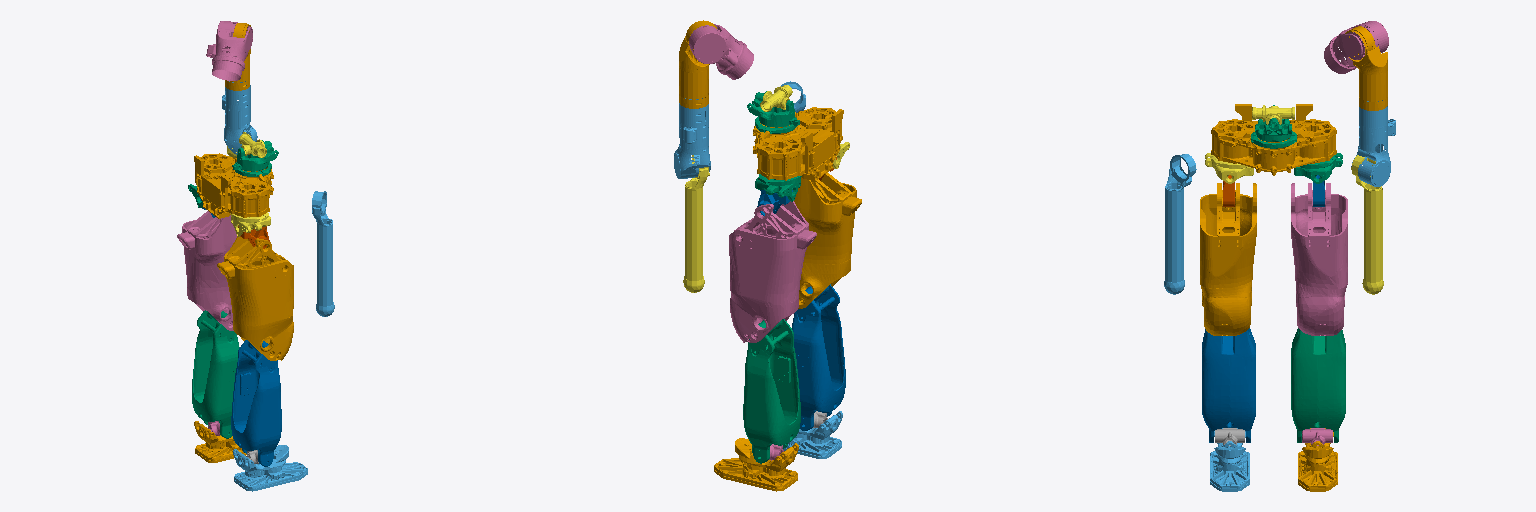
--- Facts derived from the render (not from the file) ---
Views: 3 orthographic renders of the robot side by side, from view 1: azimuth 30°, elevation 25°; view 2: azimuth 150°, elevation 25°; view 3: azimuth 270°, elevation 25°.
Model nadia with 34 links and 33 joints (23 revolute, 10 fixed), rooted at PELVIS_LINK, posed all joints at 0.
Links seen in each view (by area): view 1: RIGHT_THIGH_LINK, RIGHT_SHIN_LINK, LEFT_THIGH_LINK, LEFT_SHIN_LINK, PELVIS_LINK, RIGHT_ELBOW_PITCH_LINK, RIGHT_FOOT_LINK, LEFT_SHOULDER_PITCH_LINK, LEFT_SHOULDER_YAW_LINK, LEFT_FOOT_LINK, SPINE_YAW_LINK, LEFT_SHOULDER_ROLL_LINK (+1 smaller); view 2: LEFT_THIGH_LINK, LEFT_SHIN_LINK, RIGHT_THIGH_LINK, RIGHT_SHIN_LINK, PELVIS_LINK, LEFT_FOOT_LINK, LEFT_SHOULDER_PITCH_LINK, LEFT_ELBOW_PITCH_LINK, LEFT_SHOULDER_YAW_LINK, LEFT_SHOULDER_ROLL_LINK, RIGHT_FOOT_LINK, SPINE_YAW_LINK (+2 smaller); view 3: RIGHT_THIGH_LINK, LEFT_THIGH_LINK, LEFT_SHIN_LINK, RIGHT_SHIN_LINK, PELVIS_LINK, RIGHT_ELBOW_PITCH_LINK, LEFT_SHOULDER_YAW_LINK, LEFT_ELBOW_PITCH_LINK, LEFT_SHOULDER_ROLL_LINK, RIGHT_FOOT_LINK, LEFT_FOOT_LINK, LEFT_SHOULDER_PITCH_LINK (+4 smaller).
Boxes of the visible links, <box> form: RIGHT_THIGH_LINK: <box>217,236,293,360</box>; RIGHT_SHIN_LINK: <box>231,340,281,466</box>; LEFT_THIGH_LINK: <box>177,211,236,330</box>; LEFT_SHIN_LINK: <box>192,310,239,438</box>; PELVIS_LINK: <box>194,153,273,218</box>; RIGHT_ELBOW_PITCH_LINK: <box>312,191,334,316</box>; RIGHT_FOOT_LINK: <box>233,445,307,491</box>; LEFT_SHOULDER_PITCH_LINK: <box>206,21,252,80</box>; LEFT_SHOULDER_YAW_LINK: <box>222,81,257,154</box>; LEFT_FOOT_LINK: <box>194,421,246,462</box>; SPINE_YAW_LINK: <box>232,140,278,176</box>; LEFT_SHOULDER_ROLL_LINK: <box>225,23,250,90</box>; LEFT_THIGH_LINK: <box>729,201,816,342</box>; LEFT_SHIN_LINK: <box>743,319,800,463</box>; RIGHT_THIGH_LINK: <box>794,172,861,308</box>; RIGHT_SHIN_LINK: <box>792,284,845,430</box>; PELVIS_LINK: <box>753,107,843,180</box>; LEFT_FOOT_LINK: <box>714,438,798,491</box>; LEFT_SHOULDER_PITCH_LINK: <box>689,24,753,79</box>; LEFT_ELBOW_PITCH_LINK: <box>683,155,709,292</box>; LEFT_SHOULDER_YAW_LINK: <box>674,98,710,178</box>; LEFT_SHOULDER_ROLL_LINK: <box>679,20,716,108</box>; RIGHT_FOOT_LINK: <box>783,411,842,458</box>; SPINE_YAW_LINK: <box>747,91,799,133</box>; RIGHT_THIGH_LINK: <box>1200,183,1256,335</box>; LEFT_THIGH_LINK: <box>1291,183,1347,335</box>; LEFT_SHIN_LINK: <box>1291,328,1345,442</box>; RIGHT_SHIN_LINK: <box>1202,328,1255,442</box>; PELVIS_LINK: <box>1211,104,1336,175</box>; RIGHT_ELBOW_PITCH_LINK: <box>1164,154,1196,294</box>; LEFT_SHOULDER_YAW_LINK: <box>1351,100,1395,186</box>; LEFT_ELBOW_PITCH_LINK: <box>1351,155,1383,294</box>; LEFT_SHOULDER_ROLL_LINK: <box>1345,26,1387,110</box>; RIGHT_FOOT_LINK: <box>1210,428,1249,491</box>; LEFT_FOOT_LINK: <box>1298,428,1337,491</box>; LEFT_SHOULDER_PITCH_LINK: <box>1324,21,1388,73</box>.
Bounding box of the posed robot: 0.3882 × 0.6883 × 1.5 m (x, y, z).
20 mesh visuals loaded from 22 distinct referenced files (18 OBJ); not drawn: 4 (reference not matched to a file when rendering).

The robot description file, URDF, robot "nadia":
<?xml version = "1.0" ?>
<robot name="nadia" xmlns:xacro="http://www.ros.org/wiki/xacro">

<!-- revolute joints -->
<joint name="LEFT_HIP_Z" type="revolute">
    <origin rpy="0 0 0" xyz="0 0.115 -0.07185" />
    <axis xyz="0 0 -1" />
    <parent link="PELVIS_LINK" />
    <child link="LEFT_HIP_YAW_LINK" />
    <limit effort="1000" lower="-0.7854" upper="0.7854" velocity = "100" />
    <dynamics damping="0.05" friction="0.0"/>
</joint>

<joint name="RIGHT_HIP_Z" type="revolute">
    <origin rpy="0 0 0" xyz="0 -0.115 -0.07185" />
    <axis xyz="0 0 -1" />
    <parent link="PELVIS_LINK" />
    <child link="RIGHT_HIP_YAW_LINK" />
    <limit effort="1000" lower="-0.7854" upper="0.7854" velocity = "100" />
    <dynamics damping="0.05" friction="0.0"/>
</joint>

<joint name="LEFT_HIP_X" type="revolute">
    <origin rpy="0 0 0" xyz="0.035 0.015 -0.04975" />
    <axis xyz="1 0 0" />
    <parent link="LEFT_HIP_YAW_LINK" />
    <child link="LEFT_HIP_ROLL_LINK" />
    <limit effort="1000" lower="-0.5236" upper="1.0472" velocity = "100" />
    <dynamics damping="0.05" friction="0.0"/>
</joint>

<joint name="RIGHT_HIP_X" type="revolute">
    <origin rpy="0 0 0" xyz="0.035 -0.015 -0.04975" />
    <axis xyz="1 0 0" />
    <parent link="RIGHT_HIP_YAW_LINK" />
    <child link="RIGHT_HIP_ROLL_LINK" />
    <limit effort="1000" lower="-1.0472" upper="0.5236" velocity = "100" />
    <dynamics damping="0.05" friction="0.0"/>
</joint>

<joint name="LEFT_HIP_Y" type="revolute">
    <origin rpy="0 0 0" xyz="0 0 -0.079068" />
    <axis xyz="0 1 0" />
    <parent link="LEFT_HIP_ROLL_LINK" />
    <child link="LEFT_THIGH_LINK" />
    <limit effort="1000" lower="-1.57" upper="0.314" velocity = "100" />
    <dynamics damping="0.05" friction="0.0"/>
</joint>

<joint name='LEFT_KNEE_Y' type='revolute'>
    <origin rpy="0 0 0" xyz="0 0 -0.38" />
    <axis xyz="0 1 0" />
    <parent link="LEFT_THIGH_LINK" />
    <child link="LEFT_SHIN_LINK" />
    <limit effort="350" lower="0" upper="2.62" velocity = "100" />
    <dynamics damping="0.05" friction="0.0"/>
</joint>

<joint name="RIGHT_HIP_Y" type="revolute">
    <origin rpy="0 0 0" xyz="0 0 -0.079068" />
    <axis xyz="0 1 0" />
    <parent link="RIGHT_HIP_ROLL_LINK" />
    <child link="RIGHT_THIGH_LINK" />
    <limit effort="1000" lower="-1.57" upper="0.314" velocity = "100" />
    <dynamics damping="0.05" friction="0.0"/>
</joint>

<joint name='RIGHT_KNEE_Y' type='revolute'>
    <origin rpy="0 0 0" xyz="0 0 -0.38" />
    <axis xyz="0 1 0" />
    <parent link="RIGHT_THIGH_LINK" />
    <child link="RIGHT_SHIN_LINK" />
    <limit effort="350" lower="0" upper="2.62" velocity = "100" />
    <dynamics damping="0.05" friction="0.0"/>
</joint>

<joint name="LEFT_ANKLE_Y" type="revolute">
    <origin rpy="0 0 0" xyz="-0.00830222 0 -0.40213938" />
    <axis xyz="0 1 0" />
    <parent link="LEFT_SHIN_LINK" />
    <child link="LEFT_ANKLE_LINK" />
    <limit effort="1000" lower="-1.0472" upper="0.698132" velocity = "100" />
    <dynamics damping="0.05" friction="0.0"/>
</joint>

<joint name="RIGHT_ANKLE_Y" type="revolute">
    <origin rpy="0 0 0" xyz="-0.00830222 0 -0.40213938" />
    <axis xyz="0 1 0" />
    <parent link="RIGHT_SHIN_LINK" />
    <child link="RIGHT_ANKLE_LINK" />
    <limit effort="1000" lower="-1.0472" upper="0.698132" velocity = "100" />
    <dynamics damping="0.05" friction="0.0"/>
</joint>

<joint name="LEFT_ANKLE_X" type="revolute">
    <origin rpy="0 0 0" xyz="0 0 -0.01" />
    <axis xyz="1 0 0" />
    <parent link="LEFT_ANKLE_LINK" />
    <child link="LEFT_FOOT_LINK" />
    <limit effort="1000" lower="-0.436332" upper="0.436332" velocity = "100" />
    <dynamics damping="0.05" friction="0.0"/>
</joint>

<joint name="RIGHT_ANKLE_X" type="revolute">
    <origin rpy="0 0 0" xyz="0 0 -0.01" />
    <axis xyz="1 0 0" />
    <parent link="RIGHT_ANKLE_LINK" />
    <child link="RIGHT_FOOT_LINK" />
    <limit effort="1000" lower="-0.436332" upper="0.436332" velocity = "100" />
    <dynamics damping="0.05" friction="0.0"/>
</joint>

<joint name="SPINE_Z" type="revolute">
    <origin rpy="0 0 0" xyz="0.08 0 0.00635" />
    <axis xyz="0 0 1" />
    <parent link="PELVIS_LINK" />
    <child link="SPINE_YAW_LINK" />
    <limit effort="1000" lower="-1.0472" upper="1.0472" velocity = "100" />
    <dynamics damping="0.05" friction="0.0"/>
</joint>

<joint name="SPINE_X" type="revolute">
    <origin rpy="0 0 0" xyz="0 0 0.08205" />
    <axis xyz="1 0 0" />
    <parent link="SPINE_YAW_LINK" />
    <child link="SPINE_ROLL_LINK" />
    <limit effort="1000" lower="-0.523599" upper="0.523599" velocity = "100" />
    <dynamics damping="0.05" friction="0.0"/>
</joint>

<joint name="SPINE_Y" type="revolute">
    <origin rpy="0 0 0" xyz="0 0 0.01" />
    <axis xyz="0 1 0" />
    <parent link="SPINE_ROLL_LINK" />
    <child link="TORSO_LINK" />
    <limit effort="1000" lower="-1.0472" upper="1.0472" velocity = "100" />
    <dynamics damping="0.05" friction="0.0"/>
</joint>


<!-- links -->
<link name="PELVIS_LINK">
  <inertial>
    <mass value="19.0917"/>
    <origin rpy="0 0 0" xyz="0.02073086 2.023E-05 -0.0309812"/>
    <inertia ixx="0.0942" ixy="6.05E-06" ixz="0.000379" iyy="0.0416" iyz="3.37E-07" izz="0.112" />
  </inertial>
  <visual>
    <geometry>
      <mesh filename="package://nadia_V16_description/meshes/pelvis.obj"/>
    </geometry>
    <origin rpy="0.0 0.0 0.0" xyz="0.0 0.0 0.0"/>
  </visual>
</link>

<!-- pelvis_stim_imu -->
  <joint name="PELVIS_STIM_IMU_JOINT" type="fixed">
    <parent link="PELVIS_LINK"/>
    <child link="PELVIS_STIM_IMU_LINK"/>
    <origin xyz="-0.03133646 0.02237500 -0.07000000" rpy="0.0 3.141592 0.0"/>
  </joint>

  <link name="PELVIS_STIM_IMU_LINK">
    <inertial>
      <mass value="0.0" />
      <origin xyz="0 0 0" rpy="0 0 0" />
      <inertia ixx="0.0" ixy="0.0" ixz="0.0" iyy="0.0" iyz="0.0" izz="0.0" />
    </inertial>
  </link>

  <gazebo reference="PELVIS_STIM_IMU_LINK">
    <sensor name="pelvis_stim_imu" type="imu">
      <always_on>1</always_on>
      <update_rate>1000.0</update_rate>
      <imu>
        <noise>
          <type>gaussian</type>
          <rate>
            <mean>0.0</mean>
            <stddev>2e-4</stddev>
            <bias_mean>0.0000075</bias_mean>
            <bias_stddev>0.0000008</bias_stddev>
          </rate>
          <accel>
            <mean>0.0</mean>
            <stddev>1.7e-2</stddev>
            <bias_mean>0.1</bias_mean>
            <bias_stddev>0.001</bias_stddev>
          </accel>
        </noise>
      </imu>
    </sensor>
  </gazebo>
 <!-- end pelvis stim imu -->

<link name="LEFT_HIP_YAW_LINK">
  <inertial>
    <mass value="1.814"/>
    <origin rpy="0 0 0" xyz="-0.00629727 0.00606893 -0.03971844"/>
    <inertia ixx="0.004741914" ixy="0.000527" ixz="-0.000307" iyy="0.00414" iyz="1.36E-05" izz="0.00569" />
  </inertial>
  <visual>
    <geometry>
      <mesh filename="package://nadia_V16_description/meshes/left_hip_yaw.obj"/>
    </geometry>
    <origin rpy="0.0 0.0 0.0" xyz="0.0 0.0 0.0"/>
  </visual>
</link>

<link name="RIGHT_HIP_YAW_LINK">
  <inertial>
    <mass value="1.814"/>
    <origin rpy="0 0 0" xyz="-0.00629727 -0.00606893 -0.03971844"/>
    <inertia ixx="0.004741914" ixy="-0.000527" ixz="-0.000307" iyy="0.00414" iyz="-1.36E-05" izz="0.00569" />
  </inertial>
  <visual>
    <geometry>
      <mesh filename="package://nadia_V16_description/meshes/right_hip_yaw.obj"/>
    </geometry>
    <origin rpy="0.0 0.0 0.0" xyz="0.0 0.0 0.0"/>
  </visual>
</link>

<link name="LEFT_HIP_ROLL_LINK">
  <inertial>
    <mass value="0.762"/>
    <origin rpy="0 0 0" xyz="-0.01327037 0.00316985 -0.05399997"/>
    <inertia ixx="0.001028994" ixy="-9.31E-06" ixz="0.000352" iyy="0.00138" iyz="3.22E-05" izz="0.000663" />
  </inertial>
  <visual>
    <geometry>
      <mesh filename="package://nadia_V16_description/meshes/left_hip_roll.obj"/>
    </geometry>
    <origin rpy="0.0 0.0 0.0" xyz="0.0 0.0 0.0"/>
  </visual>
</link>

<link name="RIGHT_HIP_ROLL_LINK">
  <inertial>
    <mass value="0.762"/>
    <origin rpy="0 0 0" xyz="-0.01327037 -0.00316985 -0.05399997"/>
    <inertia ixx="0.001028994" ixy="9.31E-06" ixz="0.000352" iyy="0.00138" iyz="-3.22E-05" izz="0.000663" />
  </inertial>
  <visual>
    <geometry>
      <mesh filename="package://nadia_V16_description/meshes/right_hip_roll.obj"/>
    </geometry>
    <origin rpy="0.0 0.0 0.0" xyz="0.0 0.0 0.0"/>
  </visual>
</link>

<link name="LEFT_THIGH_LINK">
  <inertial>
    <mass value="10.953"/>
    <origin rpy="0 0 0" xyz="-0.00093749 0.01134511 -0.17863144"/>
    <inertia ixx="0.1622268263" ixy="-0.000749" ixz="0.0156" iyy="0.174" iyz="0.00213" izz="0.0528" />
  </inertial>
  <visual>
    <geometry>
      <mesh filename="package://nadia_V16_description/meshes/left_thigh.obj"/>
    </geometry>
    <origin rpy="0.0 0.0 0.0" xyz="0.0 0.0 0.0"/>
  </visual>
</link>

<!-- left thigh imu -->
  <joint name="LEFT_THIGH_IMU_JOINT" type="fixed">
    <parent link="LEFT_THIGH_LINK"/>
    <child link="LEFT_THIGH_IMU_LINK"/>
    <origin xyz="0.05793744 0.01666131 -0.09511697" rpy="2.025  0.000 -1.571"/>  
  </joint>

  <link name="LEFT_THIGH_IMU_LINK">
    <inertial>
      <mass value="0.0" />
      <origin xyz="0 0 0" rpy="0 0 0" />
      <inertia ixx="0.0" ixy="0.0" ixz="0.0" iyy="0.0" iyz="0.0" izz="0.0" />
    </inertial>
  </link>

  <gazebo reference="LEFT_THIGH_IMU_LINK">
    <sensor name="left_thigh_imu" type="imu">
      <always_on>1</always_on>
      <update_rate>1000.0</update_rate>
      <imu>
        <noise>
          <type>gaussian</type>
          <rate>
            <mean>0.0</mean>
            <stddev>2e-4</stddev>
            <bias_mean>0.0000075</bias_mean>
            <bias_stddev>0.0000008</bias_stddev>
          </rate>
          <accel>
            <mean>0.0</mean>
            <stddev>1.7e-2</stddev>
            <bias_mean>0.1</bias_mean>
            <bias_stddev>0.001</bias_stddev>
          </accel>
        </noise>
      </imu>
    </sensor>
  </gazebo>
<!-- end left thigh imu -->

<link name="RIGHT_THIGH_LINK">
  <inertial>
    <mass value="10.953"/>
    <origin rpy="0 0 0" xyz="-0.00093749 -0.01134511 -0.17863144"/>
    <inertia ixx="0.1622268263" ixy="0.000749" ixz="0.0156" iyy="0.174" iyz="-0.00213" izz="0.0528" />
  </inertial>
  <visual>
    <geometry>
      <mesh filename="package://nadia_V16_description/meshes/right_thigh.obj"/>
    </geometry>
    <origin rpy="0.0 0.0 0.0" xyz="0.0 0.0 0.0"/>
  </visual>
</link>

<!-- right thigh imu -->
  <joint name="RIGHT_THIGH_IMU_JOINT" type="fixed">
    <parent link="RIGHT_THIGH_LINK"/>
    <child link="RIGHT_THIGH_IMU_LINK"/>
    <origin xyz="0.05793670 0.01066129 -0.09511742" rpy="2.025  0.000 -1.571"/>  
  </joint>

  <link name="RIGHT_THIGH_IMU_LINK">
    <inertial>
      <mass value="0.0" />
      <origin xyz="0 0 0" rpy="0 0 0" />
      <inertia ixx="0.0" ixy="0.0" ixz="0.0" iyy="0.0" iyz="0.0" izz="0.0" />
    </inertial>
  </link>

  <gazebo reference="RIGHT_THIGH_IMU_LINK">
    <sensor name="right_thigh_imu" type="imu">
      <always_on>1</always_on>
      <update_rate>1000.0</update_rate>
      <imu>
        <noise>
          <type>gaussian</type>
          <rate>
            <mean>0.0</mean>
            <stddev>2e-4</stddev>
            <bias_mean>0.0000075</bias_mean>
            <bias_stddev>0.0000008</bias_stddev>
          </rate>
          <accel>
            <mean>0.0</mean>
            <stddev>1.7e-2</stddev>
            <bias_mean>0.1</bias_mean>
            <bias_stddev>0.001</bias_stddev>
          </accel>
        </noise>
      </imu>
    </sensor>
  </gazebo>
<!-- end right thigh imu -->

<link name="LEFT_SHIN_LINK">
  <inertial>
    <mass value="5.42"/>
    <origin rpy="0 0 0" xyz="-0.01841492 0.00228086 -0.22054239"/>
    <inertia ixx="0.064437783" ixy="-0.000214" ixz="-0.00538" iyy="0.0583" iyz="-0.000962" izz="0.0136" />
  </inertial>
  <visual>
    <geometry>
      <mesh filename="package://nadia_V16_description/meshes/left_shin.obj"/>
    </geometry>
    <origin rpy="0.0 0.0 0.0" xyz="0.0 0.0 0.0"/>
  </visual>
</link>


<!-- left shin imu -->
  <joint name="LEFT_SHIN_IMU_JOINT" type="fixed">
    <parent link="LEFT_SHIN_LINK"/>
    <child link="LEFT_SHIN_IMU_LINK"/>
    <origin xyz="-0.03216129 -0.07159184 -0.1864738" rpy="-1.570796 0.0 0.0"/>  
  </joint>

  <link name="LEFT_SHIN_IMU_LINK">
    <inertial>
      <mass value="0.0" />
      <origin xyz="0 0 0" rpy="0 0 0" />
      <inertia ixx="0.0" ixy="0.0" ixz="0.0" iyy="0.0" iyz="0.0" izz="0.0" />
    </inertial>
  </link>

  <gazebo reference="LEFT_SHIN_IMU_LINK">
    <sensor name="left_shin_imu" type="imu">
      <always_on>1</always_on>
      <update_rate>1000.0</update_rate>
      <imu>
        <noise>
          <type>gaussian</type>
          <rate>
            <mean>0.0</mean>
            <stddev>2e-4</stddev>
            <bias_mean>0.0000075</bias_mean>
            <bias_stddev>0.0000008</bias_stddev>
          </rate>
          <accel>
            <mean>0.0</mean>
            <stddev>1.7e-2</stddev>
            <bias_mean>0.1</bias_mean>
            <bias_stddev>0.001</bias_stddev>
          </accel>
        </noise>
      </imu>
    </sensor>
  </gazebo>
<!-- end left shin imu -->

<link name="RIGHT_SHIN_LINK">
  <inertial>
    <mass value="5.42"/>
    <origin rpy="0 0 0" xyz="-0.01837047 -0.00241134 -0.21991278"/>
    <inertia ixx="0.064443143" ixy="0.000202" ixz="-0.00539" iyy="0.0583" iyz="0.000906" izz="0.0136" />
  </inertial>
  <visual>
    <geometry>
      <mesh filename="package://nadia_V16_description/meshes/right_shin.obj"/>
    </geometry>
    <origin rpy="0.0 0.0 0.0" xyz="0.0 0.0 0.0"/>
  </visual>
</link>

<!-- right shin imu -->
  <joint name="RIGHT_SHIN_IMU_JOINT" type="fixed">
    <parent link="RIGHT_SHIN_LINK"/>
    <child link="RIGHT_SHIN_IMU_LINK"/>
    <origin xyz="-0.002838710 0.07159142 -0.1864738" rpy="-1.570796 0.0 3.141592"/>  
  </joint>

  <link name="RIGHT_SHIN_IMU_LINK">
    <inertial>
      <mass value="0.0" />
      <origin xyz="0 0 0" rpy="0 0 0" />
      <inertia ixx="0.0" ixy="0.0" ixz="0.0" iyy="0.0" iyz="0.0" izz="0.0" />
    </inertial>
  </link>

  <gazebo reference="RIGHT_SHIN_IMU_LINK">
    <sensor name="right_shin_imu" type="imu">
      <always_on>1</always_on>
      <update_rate>1000.0</update_rate>
      <imu>
        <noise>
          <type>gaussian</type>
          <rate>
            <mean>0.0</mean>
            <stddev>2e-4</stddev>
            <bias_mean>0.0000075</bias_mean>
            <bias_stddev>0.0000008</bias_stddev>
          </rate>
          <accel>
            <mean>0.0</mean>
            <stddev>1.7e-2</stddev>
            <bias_mean>0.1</bias_mean>
            <bias_stddev>0.001</bias_stddev>
          </accel>
        </noise>
      </imu>
    </sensor>
  </gazebo>
<!-- end right shin imu -->

<link name="LEFT_ANKLE_LINK">
  <inertial>
    <mass value="0.56"/>
    <origin rpy="0 0 0" xyz="-0.00072338 -6.619E-05 -0.00399965"/>
    <inertia ixx="0.000459" ixy="2.65E-08" ixz="-2.43E-06" iyy="0.000336" iyz="1.48E-07" izz="0.000645" />
  </inertial>
  <visual>
    <geometry>
      <mesh filename="package://nadia_V16_description/meshes/ankle.obj"/>
    </geometry>
    <origin rpy="0.0 0.0 0.0" xyz="0.0 0.0 0.0"/>
  </visual>
</link>

<link name="RIGHT_ANKLE_LINK">
  <inertial>
    <mass value="0.56"/>
    <origin rpy="0 0 0" xyz="-0.00072338 6.619E-05 -0.00399965"/>
    <inertia ixx="0.000459" ixy="-2.65E-08" ixz="-2.43E-06" iyy="0.000336" iyz="-1.48E-07" izz="0.000645" />
  </inertial>
  <visual>
    <geometry>
      <mesh filename="package://nadia_V16_description/meshes/ankle.obj"/>
    </geometry>
    <origin rpy="0.0 0.0 0.0" xyz="0.0 0.0 0.0"/>
  </visual>
</link>

<link name="LEFT_FOOT_LINK">
  <inertial>
    <mass value="1.75"/>
    <origin rpy="0 0 0" xyz="0.03075449 0.00007807 -0.04382467"/>
    <inertia ixx="0.00345011" ixy="-0.0000073" ixz="0.0014225" iyy="0.00955764" iyz="-2.269e-7" izz="0.00881313" />
  </inertial>
  <visual>
    <geometry>
      <mesh filename="package://nadia_V16_description/meshes/foot.obj"/>
    </geometry>
    <origin rpy="0.0 0.0 0.0" xyz="0.0 0.0 0.0"/>
  </visual>
</link>

<link name="RIGHT_FOOT_LINK">
  <inertial>
    <mass value="1.75"/>
    <origin rpy="0 0 0" xyz="0.032048 4e-06 -0.028422"/>
    <inertia ixx="0.00345011" ixy="-0.0000073" ixz="0.0014225" iyy="0.00955764" iyz="-2.269e-7" izz="0.00881313" />
  </inertial>
  <visual>
    <geometry>
      <mesh filename="package://nadia_V16_description/meshes/foot.obj"/>
    </geometry>
    <origin rpy="0.0 0.0 0.0" xyz="0.0 0.0 0.0"/>
  </visual>
</link>

<link name="SPINE_YAW_LINK">
  <inertial>
    <mass value="0.91"/>
    <origin rpy="0 0 0" xyz="-0.00853118 -2.697E-05 0.03791445"/>
    <inertia ixx="0.00374289408" ixy="1.25497934E-07" ixz="0.000271325072" iyy="0.00403002777" iyz="-1.38015692E-07" izz="0.0062129847" />
  </inertial>
  <visual>
    <geometry>
      <mesh filename="package://nadia_V16_description/meshes/spine_yaw.obj"/>
    </geometry>
    <origin rpy="0.0 0.0 0.0" xyz="0.0 0.0 0.0"/>
  </visual>
</link>

<link name="SPINE_ROLL_LINK">
  <inertial>
    <mass value="0.44"/>
    <origin rpy="0 0 0" xyz="-0.01904983 7E-08 0.01979244"/>
    <inertia ixx="0.000373262301" ixy="-1.51441878E-10" ixz="-6.69067307E-05" iyy="0.000649978475" iyz="-1.27858402E-10" izz="0.000419408851" />
  </inertial>
  <visual>
    <geometry>
      <mesh filename="package://nadia_V16_description/meshes/spine_roll.obj"/>
    </geometry>
    <origin rpy="0.0 0.0 0.0" xyz="0.0 0.0 0.0"/>
  </visual>
</link>

<link name="TORSO_LINK">
  <inertial>
    <mass value="13.5"/>
    <origin rpy="0 0 0" xyz="-0.03613868 -2.81E-06 0.25908586"/>
    <inertia ixx="0.534504681" ixy="8.41519717E-05" ixz="-0.00672956305" iyy="0.505409852" iyz="0.000207996773" izz="0.379402013" />
  </inertial>
  <visual>
    <geometry>
      <mesh filename="package://nadia_V16_description/meshes/torso_cycloidmounts.obj"/>
    </geometry>
    <origin rpy="0.0 0.0 0.0" xyz="0.0 0.0 0.0"/>
  </visual>
</link>

<!-- torso imu -->
  <joint name="TORSO_IMU_JOINT" type="fixed">
    <parent link="TORSO_LINK"/>
    <child link="TORSO_IMU_LINK"/>
    <origin xyz="0.04529 -0.02427 0.33757" rpy="3.141592 0 0"/>  
  </joint>

  <link name="TORSO_IMU_LINK">
    <inertial>
      <mass value="0.0" />
      <origin xyz="0 0 0" rpy="0 0 0" />
      <inertia ixx="0.0" ixy="0.0" ixz="0.0" iyy="0.0" iyz="0.0" izz="0.0" />
    </inertial>
  </link>

  <gazebo reference="TORSO_IMU_LINK">
    <sensor name="torso_imu" type="imu">
      <always_on>1</always_on>
      <update_rate>1000.0</update_rate>
      <imu>
        <noise>
          <type>gaussian</type>
          <rate>
            <mean>0.0</mean>
            <stddev>2e-4</stddev>
            <bias_mean>0.0000075</bias_mean>
            <bias_stddev>0.0000008</bias_stddev>
          </rate>
          <accel>
            <mean>0.0</mean>
            <stddev>1.7e-2</stddev>
            <bias_mean>0.1</bias_mean>
            <bias_stddev>0.001</bias_stddev>
          </accel>
        </noise>
      </imu>
    </sensor>
  </gazebo>
<!-- end torso imu -->

<!-- left arm -->
<joint name="LEFT_SHOULDER_Y" type="revolute">
    <origin xyz="0.001 0.185 0.173" rpy="0.785398163 0.0 -0.785398163"   />
    <axis xyz="0.0 1.0 0.0" />
    <parent link="TORSO_LINK" />
    <child link="LEFT_SHOULDER_PITCH_LINK" />
    <limit effort="1000" lower="-3.141592" upper="1.22173" velocity = "100" />
    <dynamics damping="0.05" friction="0.0"/>
</joint>
<joint name="LEFT_SHOULDER_X" type="revolute">
    <origin rpy="-0.785398163 0.0 0.0" xyz="0.0 0.15676000 -0.01300000" />
    <axis xyz="1 0 0" />
    <parent link="LEFT_SHOULDER_PITCH_LINK" />
    <child link="LEFT_SHOULDER_ROLL_LINK" />
    <limit effort="1000" lower="-0.261799" upper="2.87979" velocity = "100" />
    <dynamics damping="0.05" friction="0.0"/>
</joint>
<joint name="LEFT_SHOULDER_Z" type="revolute">
    <origin rpy="0.0 0.0 0.0" xyz="0.0 0.035 0.0" />
    <axis xyz="0.0 0.0 1.0" />
    <parent link="LEFT_SHOULDER_ROLL_LINK" />
    <child link="LEFT_SHOULDER_YAW_LINK" />
    <limit effort="1000" lower="-1.91986" upper="1.22173" velocity = "100" />
    <dynamics damping="0.05" friction="0.0"/>
</joint>
<joint name="LEFT_ELBOW_Y" type="revolute">
    <origin rpy="0.0 0.0 0.0" xyz="0.015 0.0 -0.4" />
    <axis xyz="0.0 1.0 0.0" />
    <parent link="LEFT_SHOULDER_YAW_LINK" />
    <child link="LEFT_ELBOW_PITCH_LINK" />
    <limit effort="1000" lower="-2.35619" upper="0.174532925" velocity = "100" />
    <dynamics damping="0.05" friction="0.0"/>
</joint>

<link name="LEFT_SHOULDER_PITCH_LINK">
  <inertial>
    <mass value="2.917"/>
    <origin rpy="0 0 0" xyz="-0.00117 0.1400097 -0.00621"/>
    <inertia ixx="0.0108367" ixy="1.356e-4" ixz="-2.666e-5" iyy="0.00498324" iyz="0.00090758" izz="0.01142661" />
  </inertial>
  <visual>
    <geometry>
      <mesh filename="package://nadia_V17_description/meshes/cycloidal_arm/LEFT_SHOULDER_PITCH_LINK.obj"/>
    </geometry>
    <origin rpy="0.0 0.0 0.0" xyz="0.0 0.0 0.0"/>
  </visual>
</link>

<!-- LEFT SHOULDER PITCH IMU Information --> 
<joint name="LEFT_SHOULDER_PITCH_IMU_JOINT" type="fixed">
	<origin rpy="-1.570796 1.570796 0" xyz="0.0174 0.06944 -0.03025"/>
	<axis xyz="0 0 1"/>
	<parent link="LEFT_SHOULDER_PITCH_LINK"/>
	<child link="LEFT_SHOULDER_PITCH_IMU_LINK"/>
</joint>

<link name="LEFT_SHOULDER_PITCH_IMU_LINK">
    <inertial>
      <mass value="0"/>
      <origin rpy="0 0 0" xyz="0 0 0"/>
      <inertia ixx="0.0" ixy="0.0" ixz="0.0" iyy="0.0" iyz="0.0" izz="0.0"/>
    </inertial>
</link>

<gazebo reference="LEFT_SHOULDER_PITCH_IMU_LINK">
	<sensor name="left_shoulder_pitch_imu" type="imu">
	  <imuTransform>0.0174 0.06944 -0.03025 -1.570796 1.570796 0</imuTransform>
	  <always_on>true</always_on>
	  <pose>0 0 0 0 0 0 </pose>
	  <imu>
		<noise>
		  <type>gaussian</type>
		  <rate>
			<mean>0</mean>
			<stddev>0.0002</stddev>
			<bias_mean>7.5e-06</bias_mean>
			<bias_stddev>8e-07</bias_stddev>
		  </rate>
		  <accel>
			<mean>0</mean>
			<stddev>0.017</stddev>
			<bias_mean>0.1</bias_mean>
			<bias_stddev>0.001</bias_stddev>
		  </accel>
		</noise>
	  </imu>
	</sensor>
</gazebo>

<link name="LEFT_SHOULDER_ROLL_LINK">
  <inertial>
    <mass value="1.17068"/>
    <origin rpy="0 0 0" xyz="0.01053 0.02124 -0.1052690"/>
    <inertia ixx="0.00787035" ixy="1.667e-4" ixz="-0.00075945" iyy="0.00727481" iyz="0.000988837" izz="0.00182144" />
  </inertial>
  <visual>
    <geometry>
      <mesh filename="package://nadia_V17_description/meshes/cycloidal_arm/LEFT_SHOULDER_ROLL_LINK.obj"/>
    </geometry>
    <origin rpy="0.0 0.0 0.0" xyz="0.0 0.0 0.0"/>
  </visual>
</link>

<link name="LEFT_SHOULDER_YAW_LINK">
  <inertial>
    <mass value="2.53059"/>
    <origin rpy="0 0 0" xyz="0.00479 0.00062 -0.3624141"/>
    <inertia ixx="0.02277422" ixy="5.053e-5" ixz="0.0012266" iyy="0.0225956" iyz="-2.571e-4" izz="0.00260312" />
  </inertial>
  <visual>
    <geometry>
      <mesh filename="package://nadia_V17_description/meshes/cycloidal_arm/LEFT_SHOULDER_YAW_LINK.obj"/>
    </geometry>
    <origin rpy="0.0 0.0 0.0" xyz="0.0 0.0 0.0"/>
  </visual>
</link>

<!-- Left Shoulder Yaw IMU -->
<joint name="LEFT_SHOULDER_YAW_IMU_JOINT" type="fixed">
	<origin rpy="-1.570796 3.1415926 -0.314159" xyz="-0.00763459 -0.0123324 -0.318"/>
	<axis xyz="0 0 1"/>
	<parent link="LEFT_SHOULDER_YAW_LINK"/> 
	<child link="LEFT_SHOULDER_YAW_IMU_LINK"/>
</joint>

<link name="LEFT_SHOULDER_YAW_IMU_LINK">
    <inertial>
      <mass value="0"/>
      <origin rpy="0 0 0" xyz="0 0 0"/>
      <inertia ixx="0.0" ixy="0.0" ixz="0.0" iyy="0.0" iyz="0.0" izz="0.0"/>
    </inertial>
 </link>

<gazebo reference="LEFT_SHOULDER_YAW_IMU_LINK">
<sensor name="left_shoulder_yaw_imu" type="imu">
  <imuTransform>-0.00763459 -0.0123324 -0.318 -1.570796 3.1415926 -0.314159</imuTransform>
  <always_on>true</always_on>
  <pose>0 0 0 0 0 0 </pose>
  <imu>
	<noise>
	  <type>gaussian</type>
	  <rate>
		<mean>0</mean>
		<stddev>0.0002</stddev>
		<bias_mean>7.5e-06</bias_mean>
		<bias_stddev>8e-07</bias_stddev>
	  </rate>
	  <accel>
		<mean>0</mean>
		<stddev>0.017</stddev>
		<bias_mean>0.1</bias_mean>
		<bias_stddev>0.001</bias_stddev>
	  </accel>
	</noise>
  </imu>
</sensor>
</gazebo>

<link name="LEFT_ELBOW_PITCH_LINK">
  <inertial>
    <mass value="0.6007"/>
    <origin rpy="0 0 0" xyz="-0.01090935 -0.01147189 -0.10388715"/>
    <inertia ixx="0.00760733" ixy="2.242e-5" ixz="-2.583e-4" iyy="0.00767556" iyz="0.00061995" izz="4.554e-4" />
  </inertial>
  <visual>
    <geometry>
      <mesh filename="package://nadia_V17_description/meshes/cycloidal_arm/LEFT_ELBOW_PITCH_LINK_413mm_LENGTH.obj"/>
    </geometry>
    <origin rpy="0.0 0.0 0.0" xyz="0.0 0.0 0.0"/>
  </visual>
</link>


<joint name="RIGHT_SHOULDER_Y" type="revolute">
    <origin xyz="0.001 -0.185 0.173" rpy="-0.785398163 0.0 0.785398163"   />
    <axis xyz="0.0 1.0 0.0" />
    <parent link="TORSO_LINK" />
    <child link="RIGHT_SHOULDER_PITCH_LINK" />
    <limit effort="1000" lower="-3.141592" upper="1.22173" velocity = "100" />
    <dynamics damping="0.05" friction="0.0"/>
</joint>
<joint name="RIGHT_SHOULDER_X" type="revolute">
    <origin rpy="0.785398163 0.0 0.0" xyz="0.0 -0.15676000 -0.01300000" />
    <axis xyz="1 0 0" />
    <parent link="RIGHT_SHOULDER_PITCH_LINK" />
    <child link="RIGHT_SHOULDER_ROLL_LINK" />
    <limit effort="1000" lower="-2.87979" upper="0.261799" velocity = "100" />
    <dynamics damping="0.05" friction="0.0"/>
</joint>
<joint name="RIGHT_SHOULDER_Z" type="revolute">
    <origin rpy="0.0 0.0 0.0" xyz="0.0 -0.035 0.0" />
    <axis xyz="0.0 0.0 1.0" />
    <parent link="RIGHT_SHOULDER_ROLL_LINK" />
    <child link="RIGHT_SHOULDER_YAW_LINK" />
    <limit effort="1000" lower="-1.22173" upper="1.91986" velocity = "100" />
    <dynamics damping="0.05" friction="0.0"/>
</joint>
<joint name="RIGHT_ELBOW_Y" type="revolute">
    <origin rpy="0.0 0.0 0.0" xyz="0.015 0.0 -0.4" />
    <axis xyz="0.0 1.0 0.0" />
    <parent link="RIGHT_SHOULDER_YAW_LINK" />
    <child link="RIGHT_ELBOW_PITCH_LINK" />
    <limit effort="1000" lower="-2.35619" upper="0.174532925" velocity = "100" />
    <dynamics damping="0.05" friction="0.0"/>
</joint>

<link name="RIGHT_SHOULDER_PITCH_LINK">
  <inertial>
    <mass value="2.917"/>
    <origin rpy="0 0 0" xyz="-0.00117 -0.1400097 -0.00621"/>
    <inertia ixx="0.0108367" ixy="1.356e-4" ixz="-2.666e-5" iyy="0.00498324" iyz="0.00090758" izz="0.01142661" />
  </inertial>
  <visual>
    <geometry>
      <mesh filename="package://nadia_V17_description/meshes/cycloidal_arm/RIGHT_SHOULDER_PITCH_LINK.obj"/>
    </geometry>
    <origin rpy="0.0 0.0 0.0" xyz="0.0 0.0 0.0"/>
  </visual>
</link>

<!-- RIGHT SHOULDER PITCH IMU Information --> 
<joint name="RIGHT_SHOULDER_PITCH_IMU_JOINT" type="fixed">
	<origin rpy="-1.570796 1.570796 0" xyz="0.0174 -0.06944 -0.03025"/>
	<axis xyz="0 0 1"/>
	<parent link="RIGHT_SHOULDER_PITCH_LINK"/>
	<child link="RIGHT_SHOULDER_PITCH_IMU_LINK"/>
</joint>

<link name="RIGHT_SHOULDER_PITCH_IMU_LINK">
    <inertial>
      <mass value="0"/>
      <origin rpy="0 0 0" xyz="0 0 0"/>
      <inertia ixx="0.0" ixy="0.0" ixz="0.0" iyy="0.0" iyz="0.0" izz="0.0"/>
    </inertial>
</link>

<gazebo reference="RIGHT_SHOULDER_PITCH_IMU_LINK">
	<sensor name="right_shoulder_pitch_imu" type="imu">
	  <imuTransform>0.0174 0.06944 -0.03025 -1.570796 1.570796 0</imuTransform>
	  <always_on>true</always_on>
	  <pose>0 0 0 0 0 0 </pose>
	  <imu>
		<noise>
		  <type>gaussian</type>
		  <rate>
			<mean>0</mean>
			<stddev>0.0002</stddev>
			<bias_mean>7.5e-06</bias_mean>
			<bias_stddev>8e-07</bias_stddev>
		  </rate>
		  <accel>
			<mean>0</mean>
			<stddev>0.017</stddev>
			<bias_mean>0.1</bias_mean>
			<bias_stddev>0.001</bias_stddev>
		  </accel>
		</noise>
	  </imu>
	</sensor>
</gazebo>

<link name="RIGHT_SHOULDER_ROLL_LINK">
  <inertial>
    <mass value="1.17068"/>
    <origin rpy="0 0 0" xyz="-0.01053 -0.02124 -0.1052690"/>
    <inertia ixx="0.00787035" ixy="-1.667e-4" ixz="-0.00075945" iyy="0.00727481" iyz="-0.000988837" izz="0.00182144" />
  </inertial>
  <visual>
    <geometry>
      <mesh filename="package://nadia_V17_description/meshes/cycloidal_arm/RIGHT_SHOULDER_ROLL_LINK.obj"/>
    </geometry>
    <origin rpy="0.0 0.0 0.0" xyz="0.0 0.0 0.0"/>
  </visual>
</link>

<link name="RIGHT_SHOULDER_YAW_LINK">
  <inertial>
    <mass value="2.53059"/>
    <origin rpy="0 0 0" xyz="0.00479 0.00062 -0.3624141"/>
    <inertia ixx="0.02277422" ixy="5.053e-5" ixz="0.0012266" iyy="0.0225956" iyz="-2.571e-4" izz="0.00260312" />
  </inertial>
  <visual>
    <geometry>
      <mesh filename="package://nadia_V17_description/meshes/cycloidal_arm/RIGHT_SHOULDER_YAW_LINK.obj"/>
    </geometry>
    <origin rpy="0.0 0.0 0.0" xyz="0.0 0.0 0.0"/>
  </visual>
</link>

<!-- Right Shoulder Yaw IMU -->
<joint name="RIGHT_SHOULDER_YAW_IMU_JOINT" type="fixed">
	<origin rpy="-1.570796 3.1415926 -0.314159" xyz="-0.00763459 -0.0123324 -0.318"/>
	<axis xyz="0 0 1"/>
	<parent link="RIGHT_SHOULDER_YAW_LINK"/> 
	<child link="RIGHT_SHOULDER_YAW_IMU_LINK"/>
</joint>

<link name="RIGHT_SHOULDER_YAW_IMU_LINK">
    <inertial>
      <mass value="0"/>
      <origin rpy="0 0 0" xyz="0 0 0"/>
      <inertia ixx="0.0" ixy="0.0" ixz="0.0" iyy="0.0" iyz="0.0" izz="0.0"/>
    </inertial>
 </link>

<gazebo reference="RIGHT_SHOULDER_YAW_IMU_LINK">
<sensor name="right_shoulder_yaw_imu" type="imu">
  <imuTransform>-0.00763459 -0.0123324 -0.318 -1.570796 3.1415926 -0.314159</imuTransform>
  <always_on>true</always_on>
  <pose>0 0 0 0 0 0 </pose>
  <imu>
	<noise>
	  <type>gaussian</type>
	  <rate>
		<mean>0</mean>
		<stddev>0.0002</stddev>
		<bias_mean>7.5e-06</bias_mean>
		<bias_stddev>8e-07</bias_stddev>
	  </rate>
	  <accel>
		<mean>0</mean>
		<stddev>0.017</stddev>
		<bias_mean>0.1</bias_mean>
		<bias_stddev>0.001</bias_stddev>
	  </accel>
	</noise>
  </imu>
</sensor>
</gazebo>

<link name="RIGHT_ELBOW_PITCH_LINK">
  <inertial>
    <mass value="0.6007"/>
    <origin rpy="0 0 0" xyz="-0.01090935 -0.01147189 -0.10388715"/>
    <inertia ixx="0.00760733" ixy="2.242e-5" ixz="-2.583e-4" iyy="0.00767556" iyz="0.00061995" izz="4.554e-4" />
  </inertial>
  <visual>
    <geometry>
      <mesh filename="package://nadia_V17_description/meshes/cycloidal_arm/RIGHT_ELBOW_PITCH_LINK_413mm_LENGTH.obj"/>
    </geometry>
    <origin rpy="0.0 0.0 0.0" xyz="0.0 0.0 0.0"/>
  </visual>
</link>


</robot>
